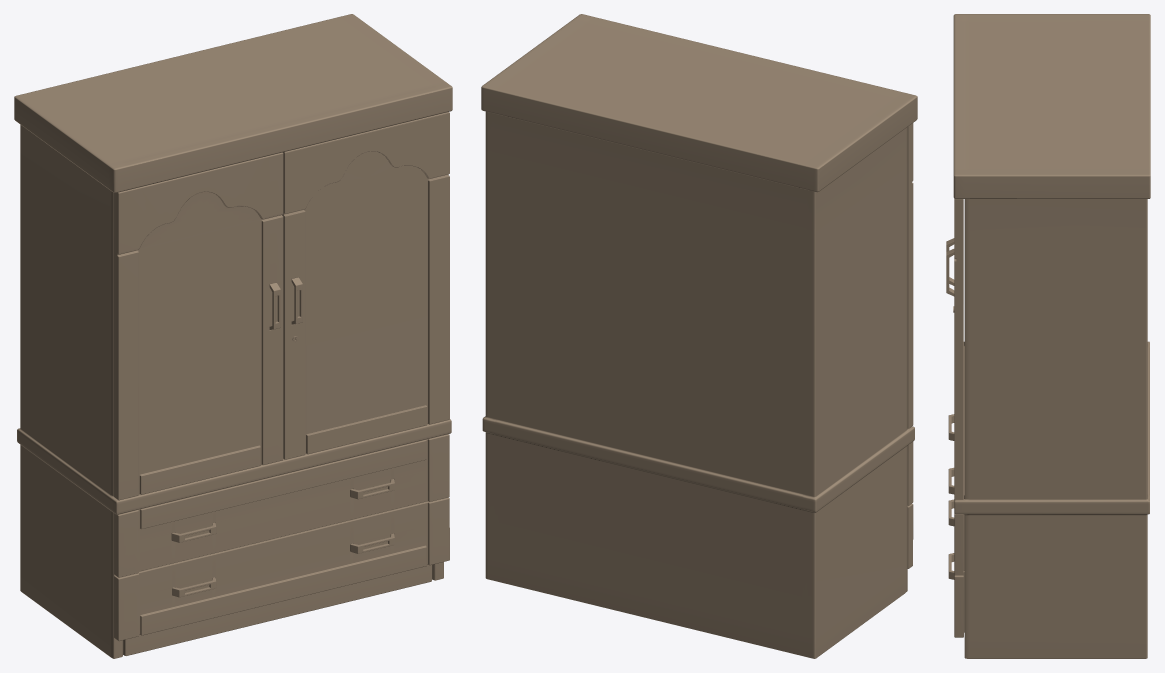
The model's file is Wardrobe.fbx.
The picture shows the model from 3 angles, left to right: view 1: azimuth 30°, elevation 25°; view 2: azimuth 150°, elevation 25°; view 3: azimuth 270°, elevation 25°; orthographic projection. The views are drawn at different scales.
Parts seen in each view (by area): view 1: Wardrobe1, l_door, r_door, polySurface395, polySurface391; view 2: Wardrobe1, l_door; view 3: Wardrobe1, r_door, polySurface395, polySurface391.
Boxes of the visible parts, x1,y1,x2,y2 form: Wardrobe1: [14, 14, 452, 658]; l_door: [114, 152, 283, 500]; r_door: [282, 112, 449, 459]; polySurface395: [114, 497, 449, 640]; polySurface391: [114, 434, 449, 577]; Wardrobe1: [481, 14, 917, 658]; l_door: [907, 123, 913, 428]; Wardrobe1: [953, 14, 1150, 658]; r_door: [954, 199, 963, 499]; polySurface395: [954, 570, 964, 637]; polySurface391: [954, 514, 964, 575].
Size of the model in its own units: 2.16 by 3.01 by 1.15.
